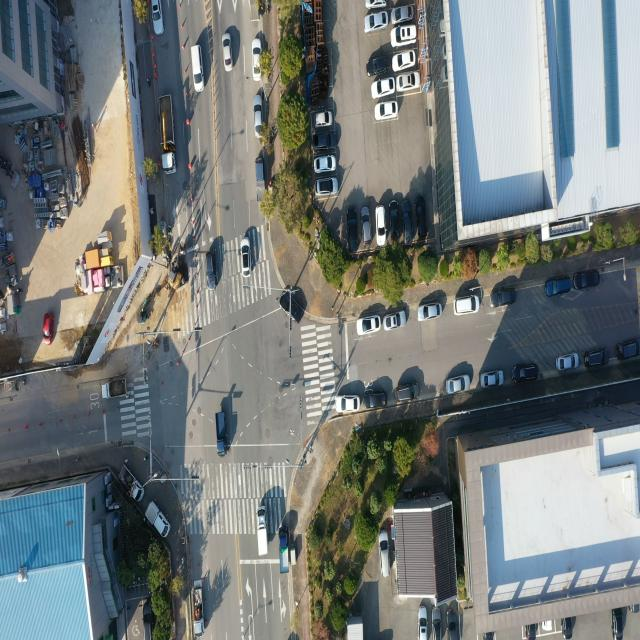car: (279, 291, 302, 327), (401, 198, 415, 244), (544, 273, 571, 296), (414, 195, 428, 239), (150, 0, 165, 41), (191, 43, 204, 89), (366, 54, 391, 77), (378, 532, 390, 578), (362, 389, 386, 412), (616, 333, 640, 356), (363, 10, 387, 32), (489, 288, 515, 308), (376, 100, 399, 122), (252, 96, 264, 138), (447, 376, 472, 396), (575, 270, 600, 290), (454, 297, 480, 316), (372, 77, 395, 98), (445, 603, 458, 640), (393, 26, 418, 45), (389, 198, 399, 245), (394, 52, 416, 73), (252, 38, 262, 84), (383, 312, 407, 331), (417, 304, 441, 322), (556, 352, 580, 370), (377, 206, 388, 245), (513, 364, 538, 381), (336, 395, 361, 412), (314, 177, 336, 196), (397, 72, 419, 91), (390, 5, 411, 24), (585, 348, 606, 367), (358, 316, 380, 334), (314, 156, 336, 174), (314, 133, 336, 151), (481, 372, 504, 389), (42, 312, 54, 344), (222, 34, 232, 72), (395, 385, 417, 402), (348, 208, 357, 248), (431, 605, 441, 640), (361, 207, 370, 243), (419, 606, 429, 638), (315, 110, 333, 127), (207, 252, 215, 290), (242, 239, 250, 276), (368, 0, 388, 9)
medium_truck: (157, 94, 177, 178)
small_truck: (144, 500, 170, 540), (117, 461, 141, 504), (190, 580, 206, 636), (214, 408, 227, 457), (103, 377, 130, 398), (254, 155, 266, 201), (279, 527, 290, 577), (257, 509, 267, 558)
